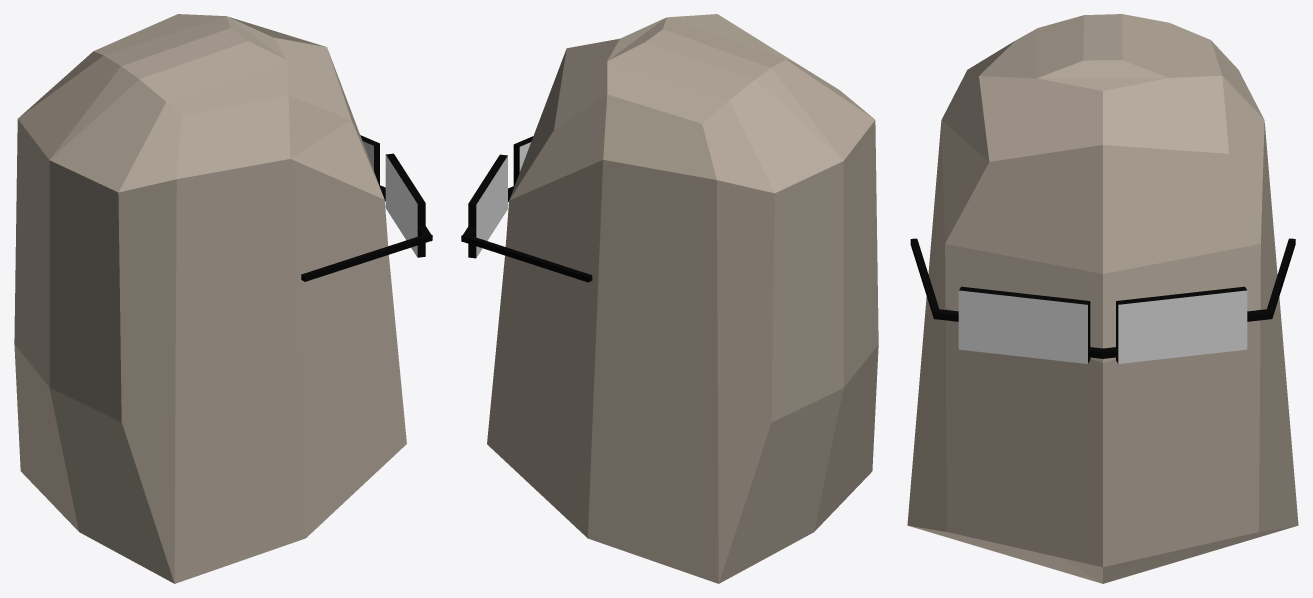
Rendered from head2.fbx.
3 views of the same model, side by side, from view 1: azimuth 30°, elevation 25°; view 2: azimuth 150°, elevation 25°; view 3: azimuth 270°, elevation 25° (orthographic). The views are drawn at different scales.
Visible parts, largest first — view 1: head2; view 2: head2; view 3: head2.
Boxes of the visible parts, box(x1,y1,x2,y2) form: head2: box(14, 14, 432, 583); head2: box(461, 14, 878, 583); head2: box(907, 14, 1298, 583).
Size of the model in its own units: 67.56 by 87.82 by 61.01.
